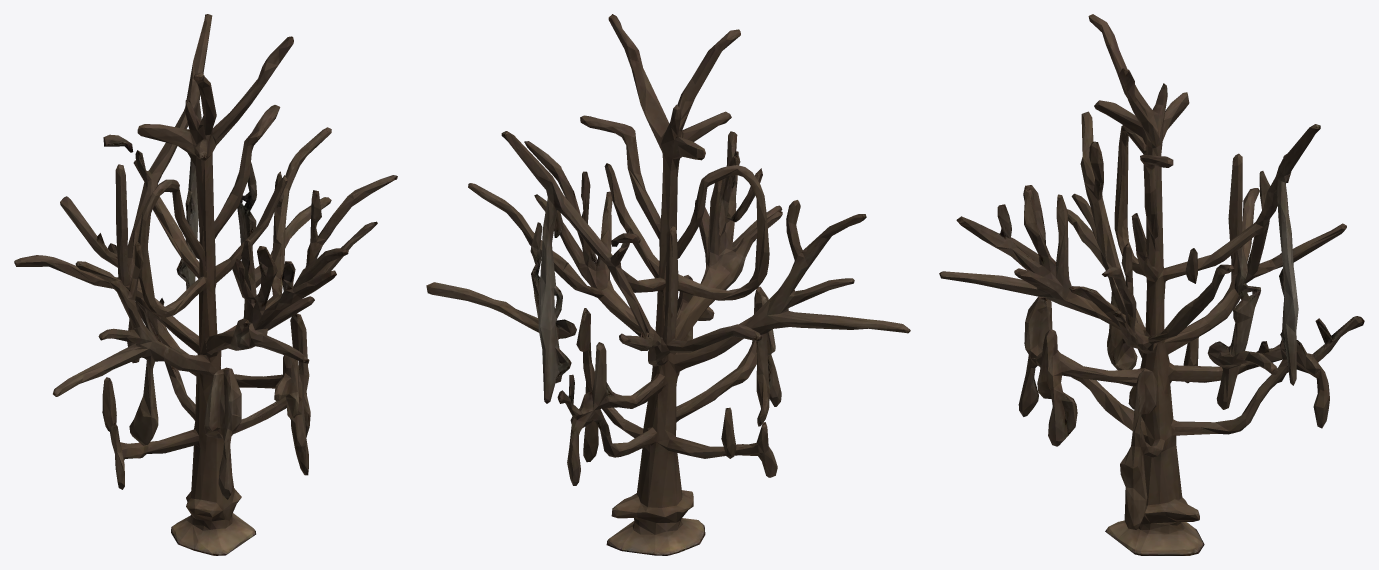
Rendered from tree_bare.glb.
The picture shows the model from 3 angles, left to right: view 1: azimuth 30°, elevation 25°; view 2: azimuth 150°, elevation 25°; view 3: azimuth 270°, elevation 25°; orthographic projection.
Parts seen in each view (by area): view 1: geometry_0; view 2: geometry_0; view 3: geometry_0.
Part boxes in pixels (left/top/right/bottom): geometry_0: left=14, top=14, right=397, bottom=555; geometry_0: left=426, top=14, right=910, bottom=555; geometry_0: left=939, top=14, right=1364, bottom=555.
Size of the model in its own units: 0.8054 by 0.9997 by 0.7699.
1 material, 1 textured.
